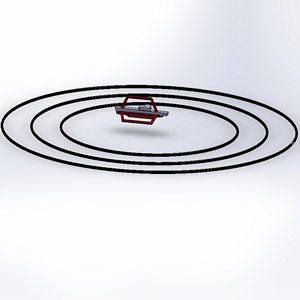circle: (1, 66, 300, 184)
submarine: (111, 84, 169, 134)
